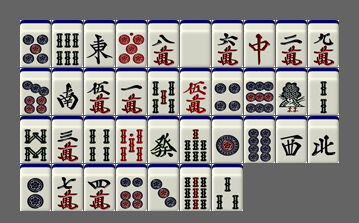0m: (180, 68, 211, 115)
0p: (116, 20, 147, 67)
0s: (116, 116, 147, 163)
1m: (116, 68, 147, 115)
1p: (212, 116, 243, 163)
1s: (276, 68, 307, 115)
1z: (84, 20, 115, 67)
2m: (276, 20, 307, 67)
2p: (20, 164, 51, 211)
2s: (308, 68, 339, 115)
2z: (52, 68, 83, 115)
3m: (52, 116, 83, 163)
3p: (148, 164, 179, 211)
3s: (212, 164, 243, 211)
3z: (276, 116, 307, 163)
4m: (84, 164, 115, 211)
4p: (212, 68, 243, 115)
4s: (84, 116, 115, 163)
4z: (308, 116, 339, 163)
5m: (84, 68, 115, 115)
5p: (20, 20, 51, 67)
5s: (148, 68, 179, 115)
5z: (180, 20, 211, 67)
6m: (212, 20, 243, 67)
6p: (116, 164, 147, 211)
6s: (52, 20, 83, 67)
6z: (148, 116, 179, 163)
7m: (52, 164, 83, 211)
7p: (20, 68, 51, 115)
7s: (180, 116, 211, 163)
7z: (244, 20, 275, 67)
8m: (148, 20, 179, 67)
8p: (244, 116, 275, 163)
8s: (20, 116, 51, 163)
9m: (308, 20, 339, 67)
9p: (244, 68, 275, 115)
9s: (180, 164, 211, 211)
